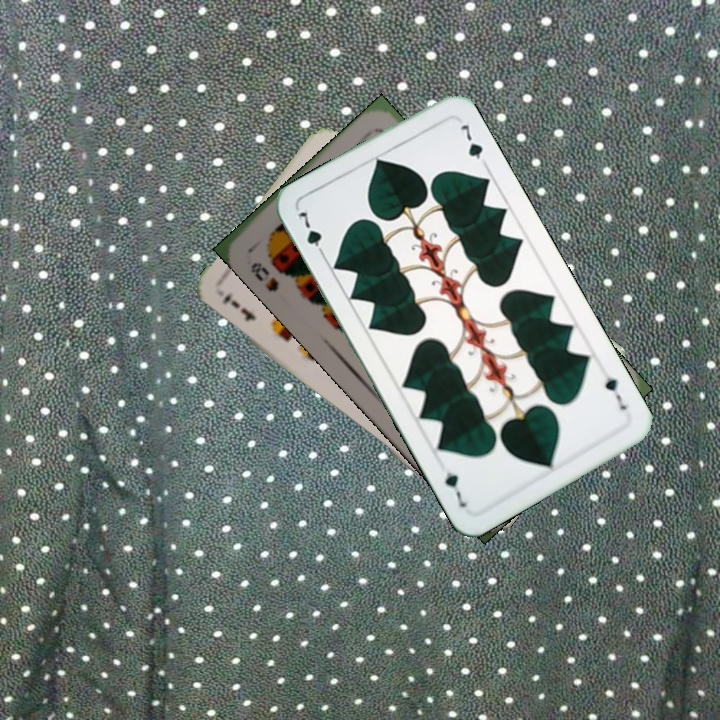E7: (218, 291, 258, 325)
G7: (293, 207, 329, 261), (600, 373, 630, 413)
S8: (246, 258, 282, 295)
